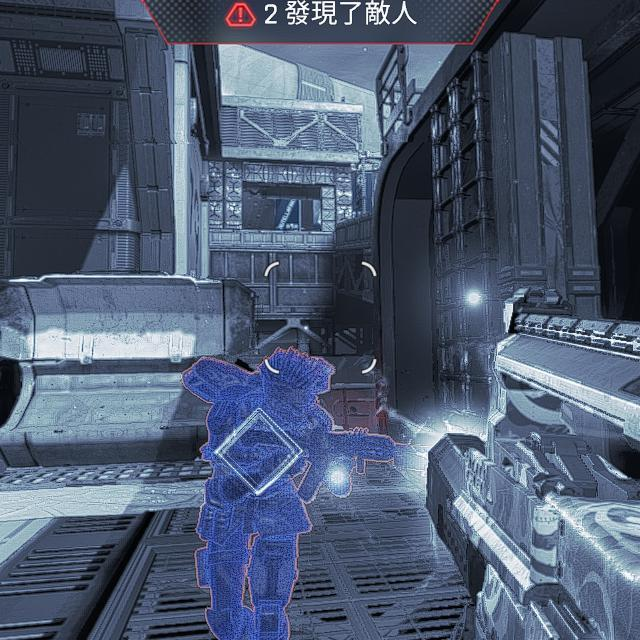avatar: (189, 347, 334, 640)
object: (211, 408, 305, 499)
